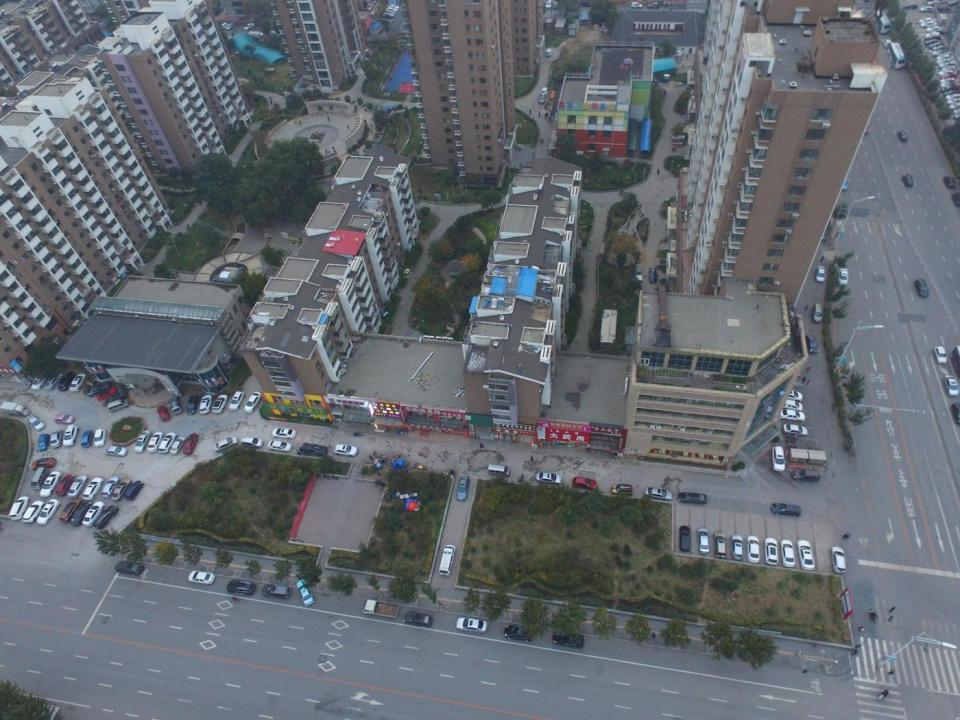bus: (886, 43, 905, 68), (873, 8, 891, 33)
car: (551, 630, 586, 648), (36, 500, 60, 525), (21, 499, 45, 523), (69, 501, 92, 526), (502, 624, 532, 643), (796, 540, 815, 570), (455, 616, 488, 633), (84, 501, 106, 526), (38, 472, 60, 497), (82, 476, 104, 500), (94, 506, 117, 528), (111, 477, 131, 502), (9, 495, 29, 520), (770, 502, 801, 518), (402, 611, 432, 627), (829, 547, 847, 573), (780, 539, 795, 570), (764, 537, 780, 566), (54, 475, 75, 497), (228, 580, 256, 596), (676, 492, 708, 506), (158, 432, 178, 454), (60, 499, 80, 521), (68, 474, 87, 497), (115, 560, 143, 575), (300, 443, 328, 458), (101, 476, 120, 498), (214, 436, 238, 453), (263, 584, 292, 598), (791, 468, 820, 482), (777, 408, 806, 422), (134, 430, 150, 454), (747, 535, 760, 564), (58, 370, 75, 392), (62, 425, 79, 447), (298, 579, 312, 605), (186, 570, 214, 583), (42, 373, 61, 392), (245, 392, 262, 413), (334, 443, 359, 457), (643, 488, 672, 500), (611, 482, 634, 497), (228, 391, 245, 411), (211, 394, 228, 414), (913, 278, 930, 298), (714, 532, 727, 558), (697, 528, 710, 554), (772, 446, 785, 472), (782, 424, 808, 437), (780, 388, 804, 402), (168, 436, 184, 456), (148, 431, 164, 451), (944, 375, 959, 396), (573, 477, 597, 490), (731, 534, 743, 560), (105, 391, 127, 405), (70, 372, 86, 391), (85, 382, 110, 394), (457, 474, 467, 504), (804, 334, 819, 354), (536, 472, 563, 483), (268, 440, 292, 452), (680, 526, 691, 552), (198, 395, 212, 415), (779, 398, 802, 410), (271, 428, 296, 439), (184, 433, 197, 454), (934, 346, 948, 365), (103, 446, 127, 457), (31, 458, 57, 468), (949, 403, 960, 425), (28, 415, 44, 430), (940, 82, 958, 95), (54, 414, 75, 425), (37, 433, 49, 452), (31, 372, 44, 389), (157, 404, 170, 421), (80, 430, 92, 448), (97, 388, 116, 399), (50, 430, 61, 447), (648, 267, 659, 284), (940, 71, 957, 82), (934, 55, 954, 64), (938, 67, 957, 76), (816, 266, 826, 283), (837, 270, 849, 284), (938, 60, 958, 68), (944, 175, 956, 188), (942, 63, 959, 72), (902, 174, 913, 187), (840, 175, 849, 190), (945, 92, 960, 101), (948, 96, 959, 108), (903, 2, 918, 10), (934, 45, 949, 53), (939, 78, 956, 85), (936, 52, 950, 60), (944, 89, 958, 97), (899, 130, 909, 141), (882, 39, 894, 48), (860, 121, 867, 136), (952, 192, 960, 205), (934, 49, 945, 58), (922, 21, 936, 28), (926, 31, 940, 38), (920, 5, 933, 12), (926, 37, 939, 44), (919, 17, 934, 23), (245, 23, 255, 31), (630, 2, 643, 8), (947, 0, 960, 6), (927, 25, 940, 31), (924, 0, 939, 5), (647, 2, 659, 8), (389, 4, 400, 10), (930, 42, 941, 48), (384, 12, 394, 18), (387, 7, 397, 13), (950, 103, 958, 110), (386, 10, 396, 15), (540, 87, 546, 95), (220, 23, 227, 29), (540, 94, 544, 104)
truck: (0, 400, 30, 415), (248, 31, 266, 42)
van: (363, 598, 400, 618), (440, 544, 454, 576), (31, 467, 47, 490), (126, 480, 144, 500), (488, 463, 510, 476), (108, 398, 128, 412), (169, 396, 184, 414), (241, 437, 264, 447), (94, 428, 106, 447), (188, 394, 197, 416), (813, 302, 822, 324), (225, 23, 233, 30), (545, 0, 551, 8), (546, 49, 550, 57)
